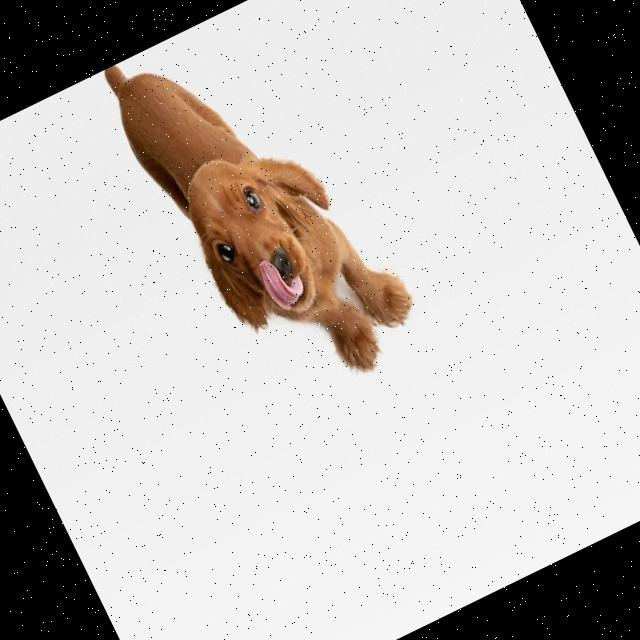Dog: (95, 0, 430, 420)
